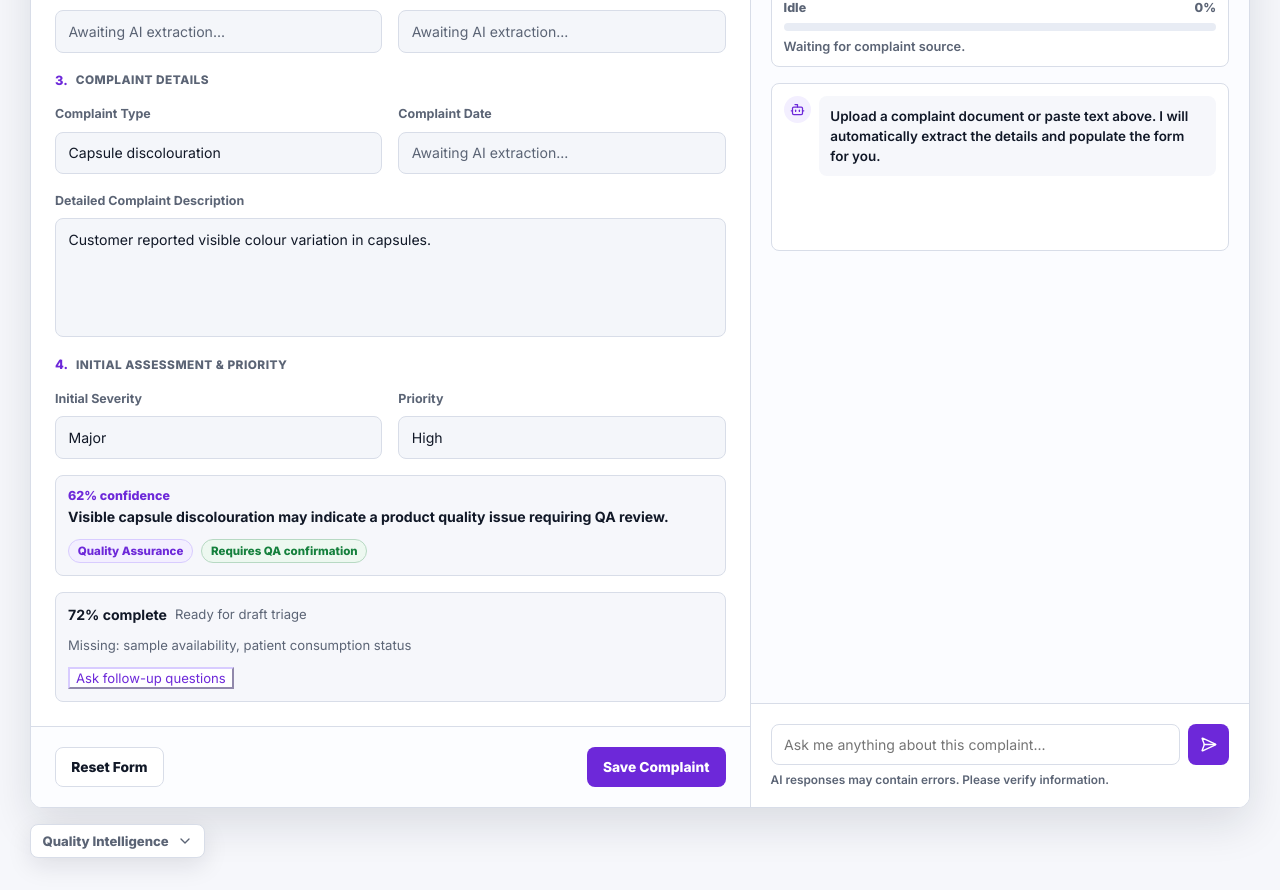
Test: App › quality war room remains inside the dock and preserves workspace columns
(page scrolled)
Step 1. Click the button "Quality Intelligence" → (118, 841), box 30,824 -> 205,858
(page scrolled)
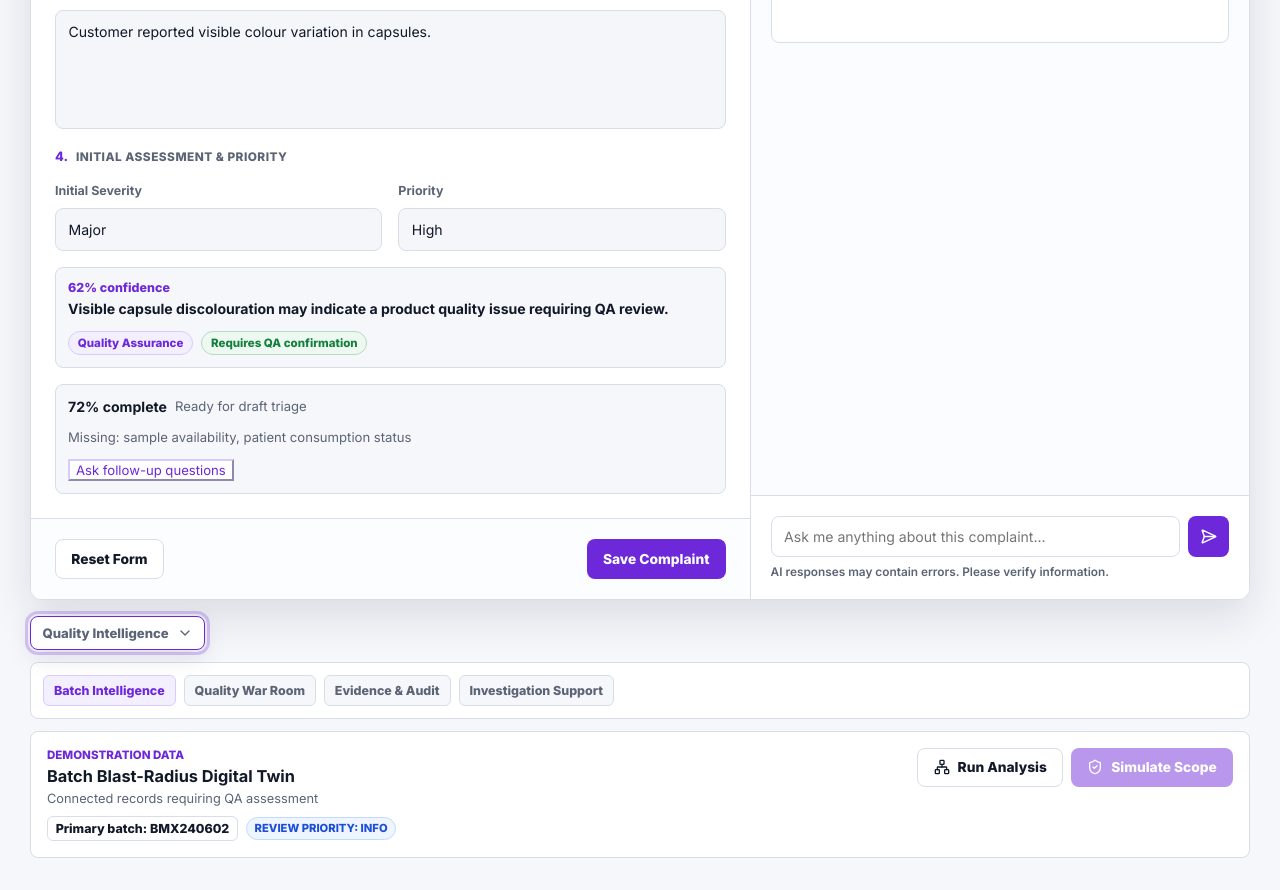
Step 2. Click the tab "Quality War Room" → (250, 690), box 184,675 -> 316,706
(page scrolled)
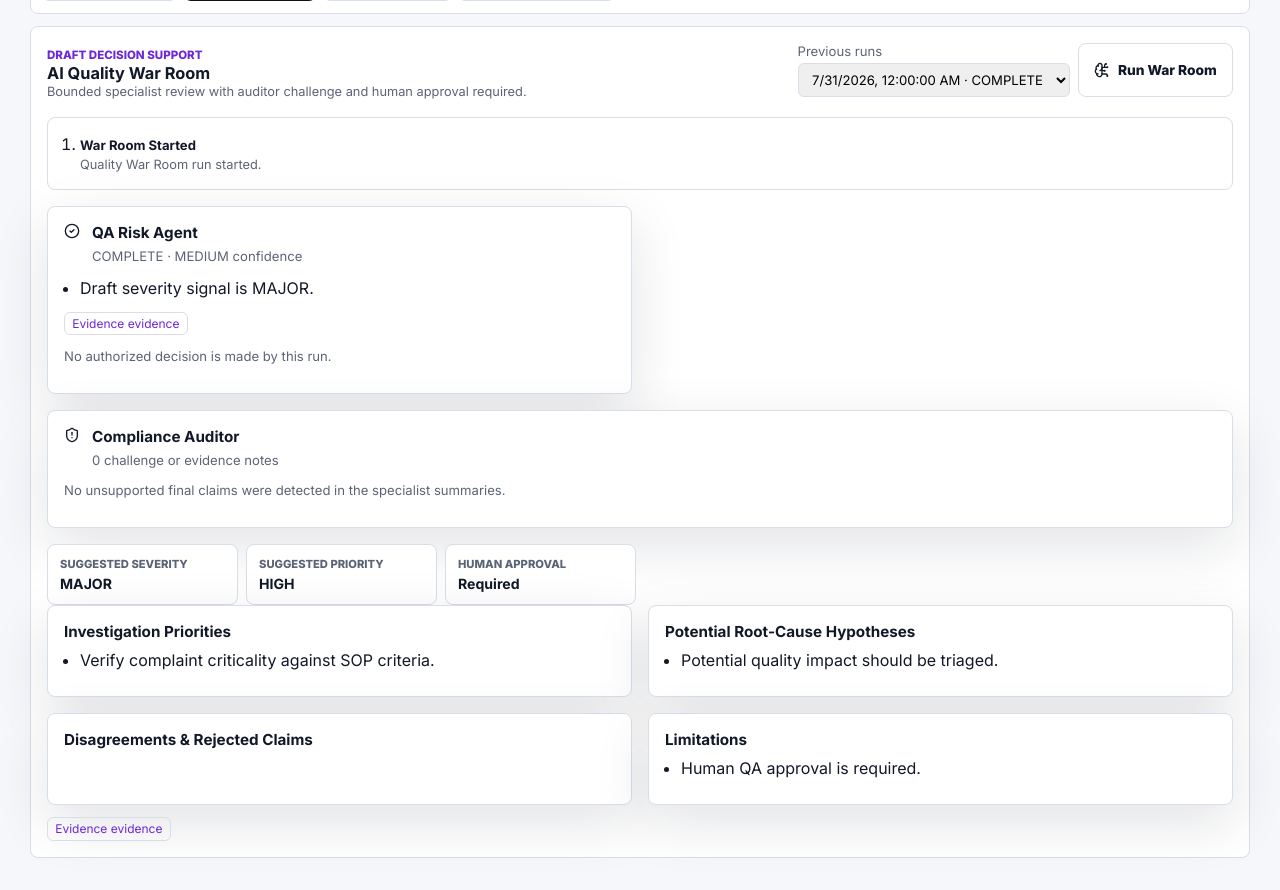
Expected: the element with test id "quality-war-room-panel" is shown
Expected: the element with test id "consensus-panel" shows "Human Approval", 458,557 -> 566,571
